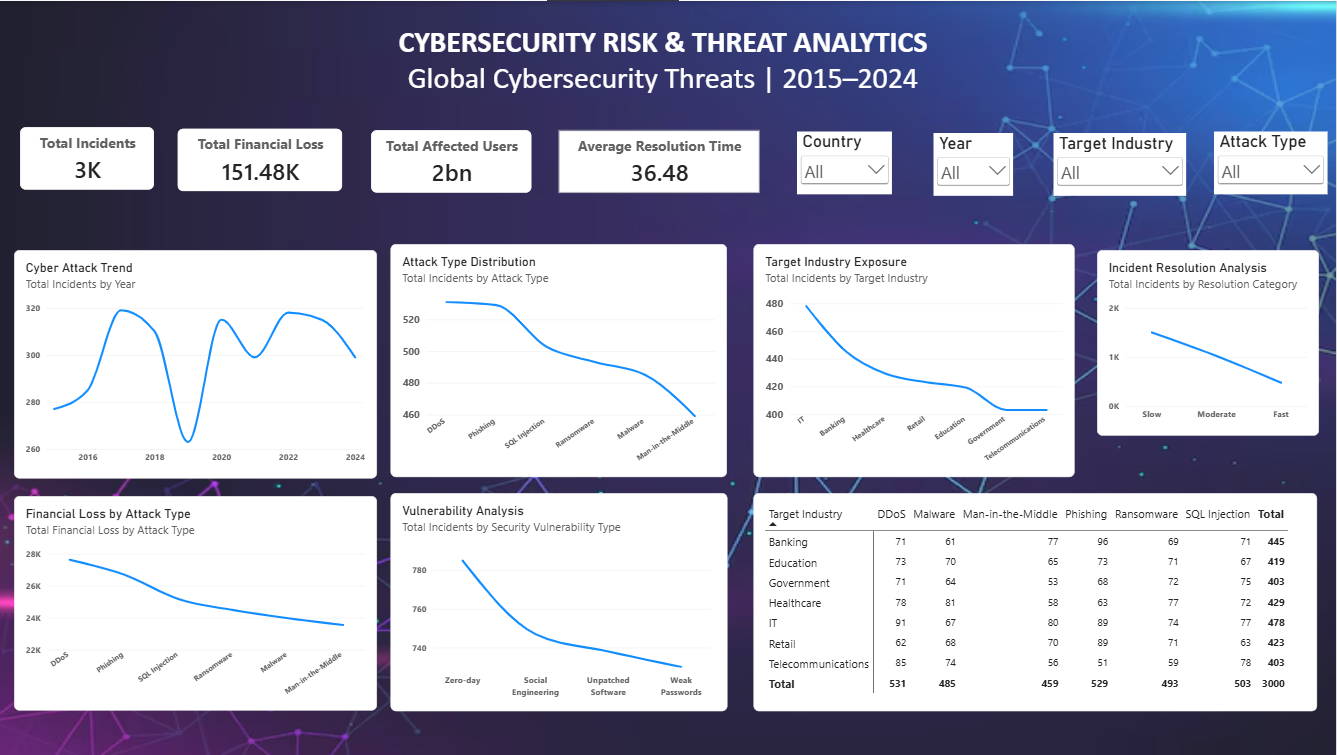

This screenshot's page, from the dashboard's own definition file:
{"tool":"powerbi","page":{"name":"Page 1","canvas":[1920,1080],"ordinal":0},"visuals":[{"type":"textbox","box":[0,32.5,1920,112.5],"z":0},{"type":"textbox","box":[100,100,300,300],"z":1000},{"type":"cardVisual","fields":{"Data":["data.Total Incidents"]},"box":[34.3,180.5,192,90],"z":2000},{"type":"cardVisual","fields":{"Data":["data.Total Financial Loss"]},"box":[260.3,182.5,236,90],"z":3000},{"type":"cardVisual","fields":{"Data":["data.Total Affected Users"]},"box":[536.3,184.5,230,90],"z":4000},{"type":"cardVisual","fields":{"Data":["data.Average Resolution Time"]},"box":[806.3,184.5,288,90],"z":5000},{"type":"lineChart","title":"Cyber Attack Trend","fields":{"Category":["data.Year"],"Y":["data.Total Incidents"]},"box":[25,356.9,520,327.5],"z":6000},{"type":"lineChart","title":"Attack Type Distribution","fields":{"Category":["data.Attack Type"],"Y":["data.Total Incidents"]},"box":[566,348.4,482,334],"z":7000},{"type":"lineChart","title":"Target Industry Exposure","fields":{"Category":["data.Target Industry"],"Y":["data.Total Incidents"]},"box":[1084,348.4,460,334],"z":8000},{"type":"lineChart","title":"Financial Loss by Attack Type","fields":{"Category":["data.Attack Type"],"Y":["data.Total Financial Loss"]},"box":[25,709.4,520,307.5],"z":9000},{"type":"lineChart","title":"Vulnerability Analysis","fields":{"Category":["data.Security Vulnerability Type"],"Y":["data.Total Incidents"]},"box":[565,704.4,482.5,312.5],"z":10000},{"type":"lineChart","title":"Incident Resolution Analysis","fields":{"Category":["data.Resolution Category"],"Y":["data.Total Incidents"]},"box":[1576,356.4,318,266],"z":11000},{"type":"pivotTable","fields":{"Columns":["data.Attack Type"],"Rows":["data.Target Industry"],"Values":["data.Total Incidents"]},"box":[1085,704.4,807.5,312.5],"z":12000},{"type":"slicer","fields":{"Values":["data.Year"]},"box":[1342.3,188.5,114,90],"z":13000},{"type":"slicer","fields":{"Values":["data.Country"]},"box":[1146.3,186.5,136,90],"z":14000},{"type":"slicer","fields":{"Values":["data.Target Industry"]},"box":[1514.3,188.5,190,90],"z":15000},{"type":"slicer","fields":{"Values":["data.Attack Type"]},"box":[1745.3,187,162.5,90],"z":16000}]}

Visuals, with their boxes in screenshot pixels (x1, y1, x2, y2), scaled from the page's 1920x1080 canvas onto the 1337x755 screenshot:
textbox: [left=0, top=23, right=1336, bottom=101]
textbox: [left=70, top=70, right=279, bottom=280]
cardVisual - data.Total Incidents: [left=24, top=126, right=158, bottom=189]
cardVisual - data.Total Financial Loss: [left=181, top=128, right=346, bottom=190]
cardVisual - data.Total Affected Users: [left=373, top=129, right=534, bottom=192]
cardVisual - data.Average Resolution Time: [left=561, top=129, right=762, bottom=192]
"Cyber Attack Trend" lineChart: [left=17, top=249, right=380, bottom=478]
"Attack Type Distribution" lineChart: [left=394, top=244, right=730, bottom=477]
"Target Industry Exposure" lineChart: [left=755, top=244, right=1075, bottom=477]
"Financial Loss by Attack Type" lineChart: [left=17, top=496, right=380, bottom=711]
"Vulnerability Analysis" lineChart: [left=393, top=492, right=729, bottom=711]
"Incident Resolution Analysis" lineChart: [left=1097, top=249, right=1319, bottom=435]
pivotTable - data.Attack Type x data.Target Industry: [left=756, top=492, right=1318, bottom=711]
slicer - data.Year: [left=935, top=132, right=1014, bottom=195]
slicer - data.Country: [left=798, top=130, right=893, bottom=193]
slicer - data.Target Industry: [left=1054, top=132, right=1187, bottom=195]
slicer - data.Attack Type: [left=1215, top=131, right=1329, bottom=194]
